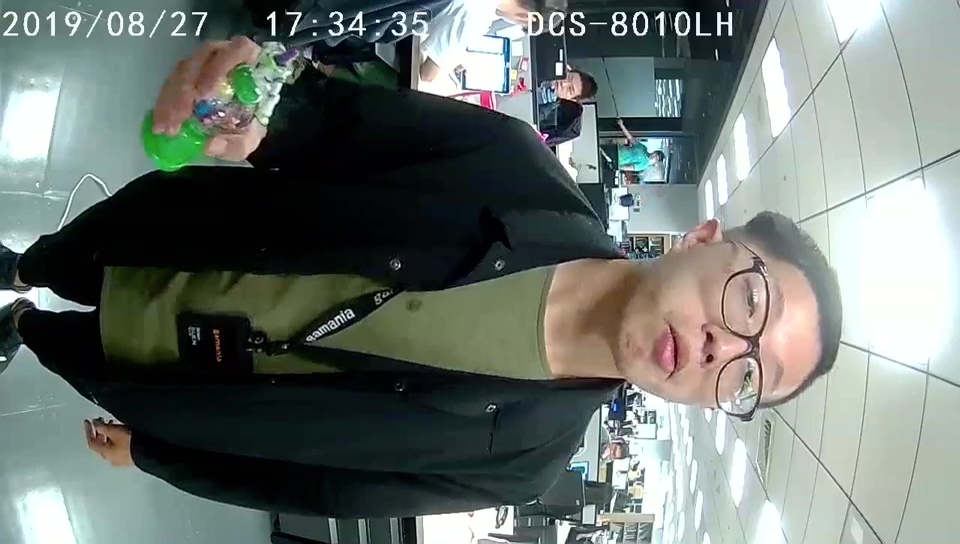buzz: (140, 37, 300, 172)
